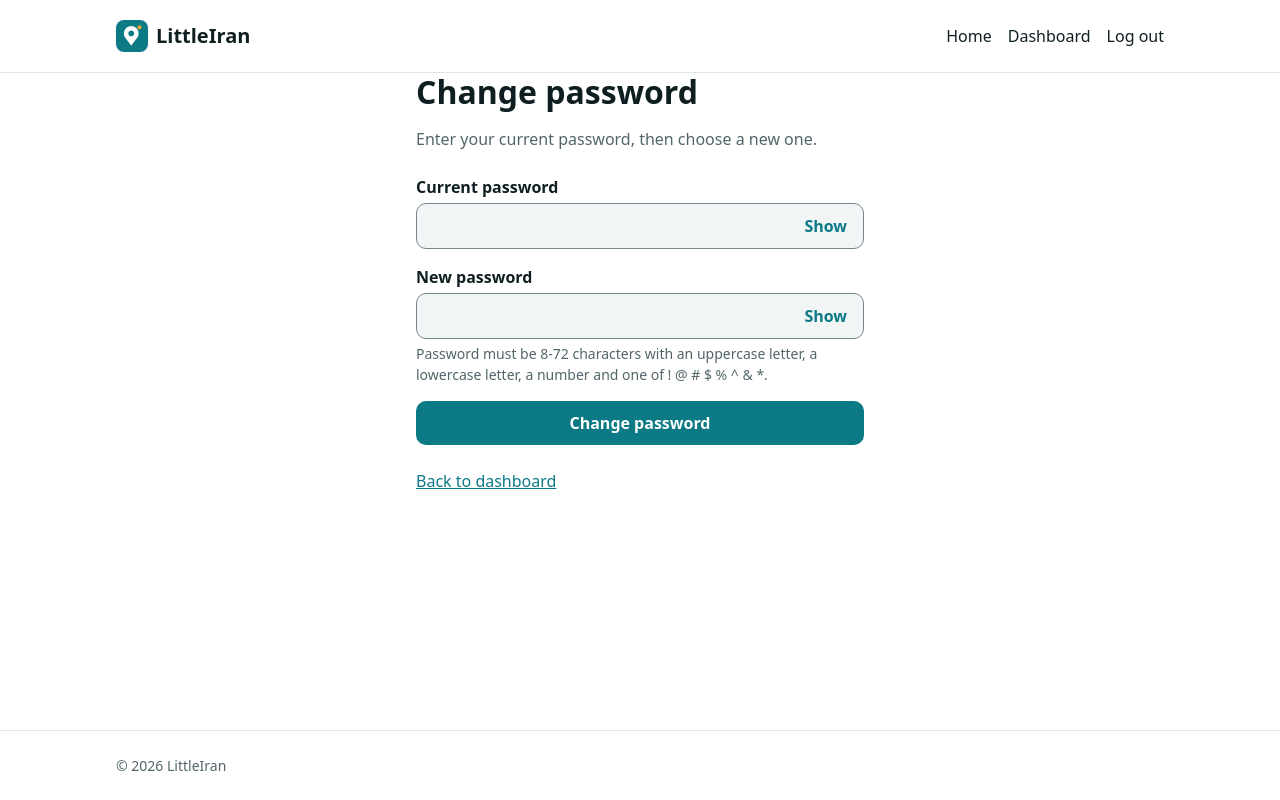
Test: Change password page › explains an unreachable server and keeps what was typed
Expected: the heading "Change password" is shown, [416,70,698,113]
Type "Test123@" into the password field labelled "Current password" at (603, 226), box [417,204,788,248]
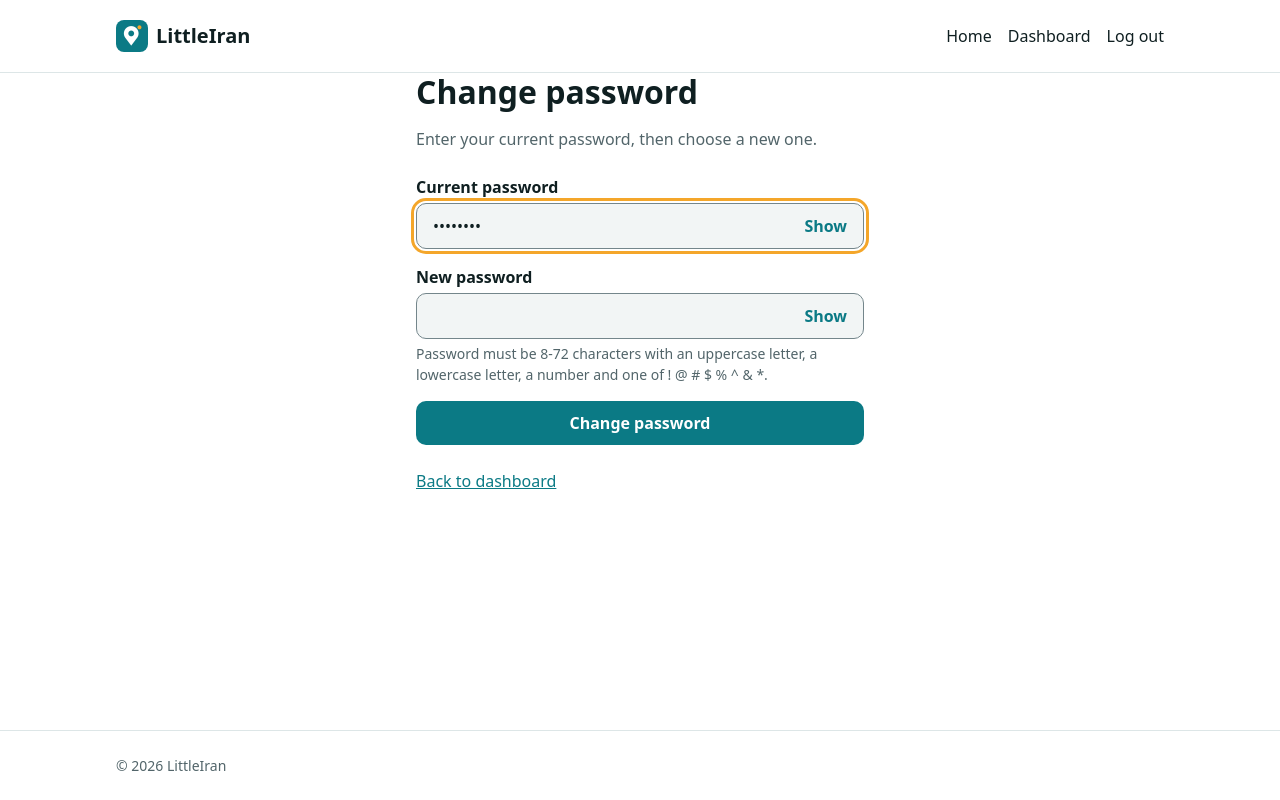
Type "NewPass1!" into the password field labelled "New password" at (603, 316), box [417,294,788,338]
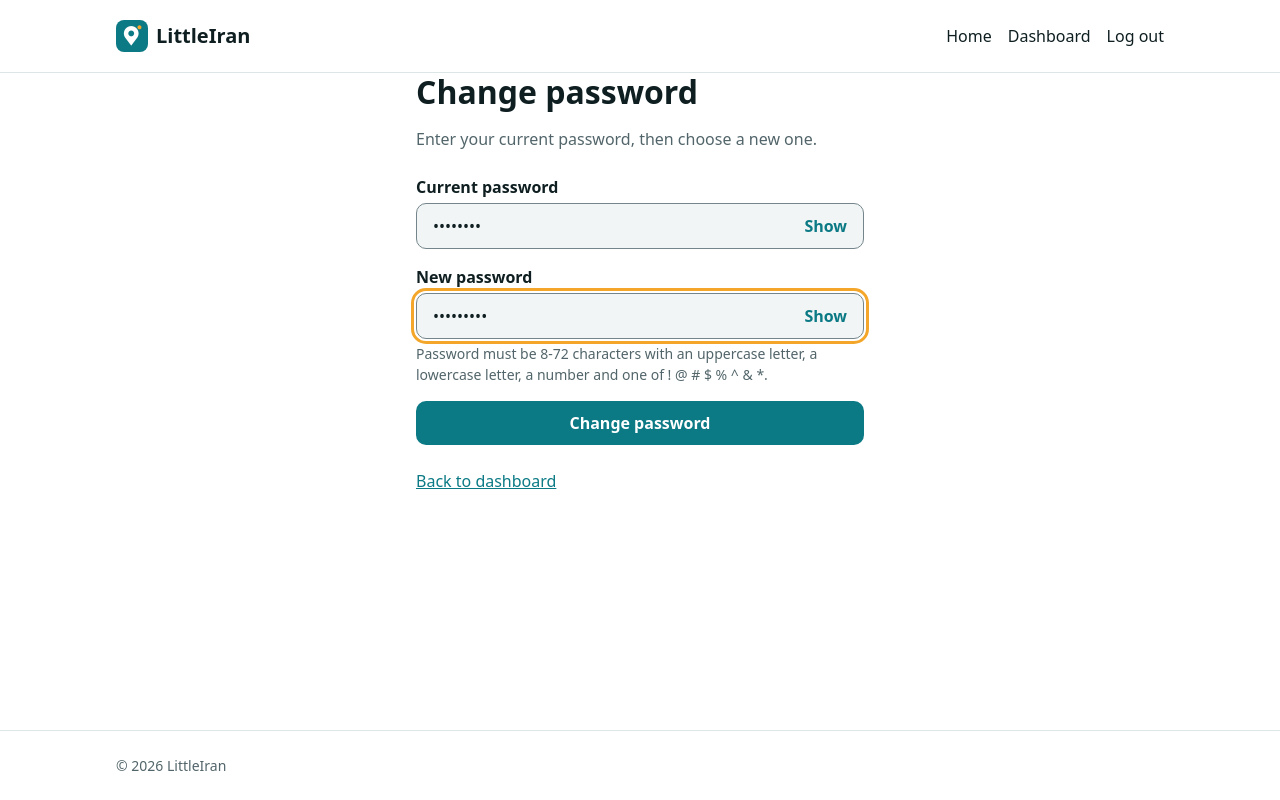
Click the button "Change password" at (640, 423), box [416,401,864,445]
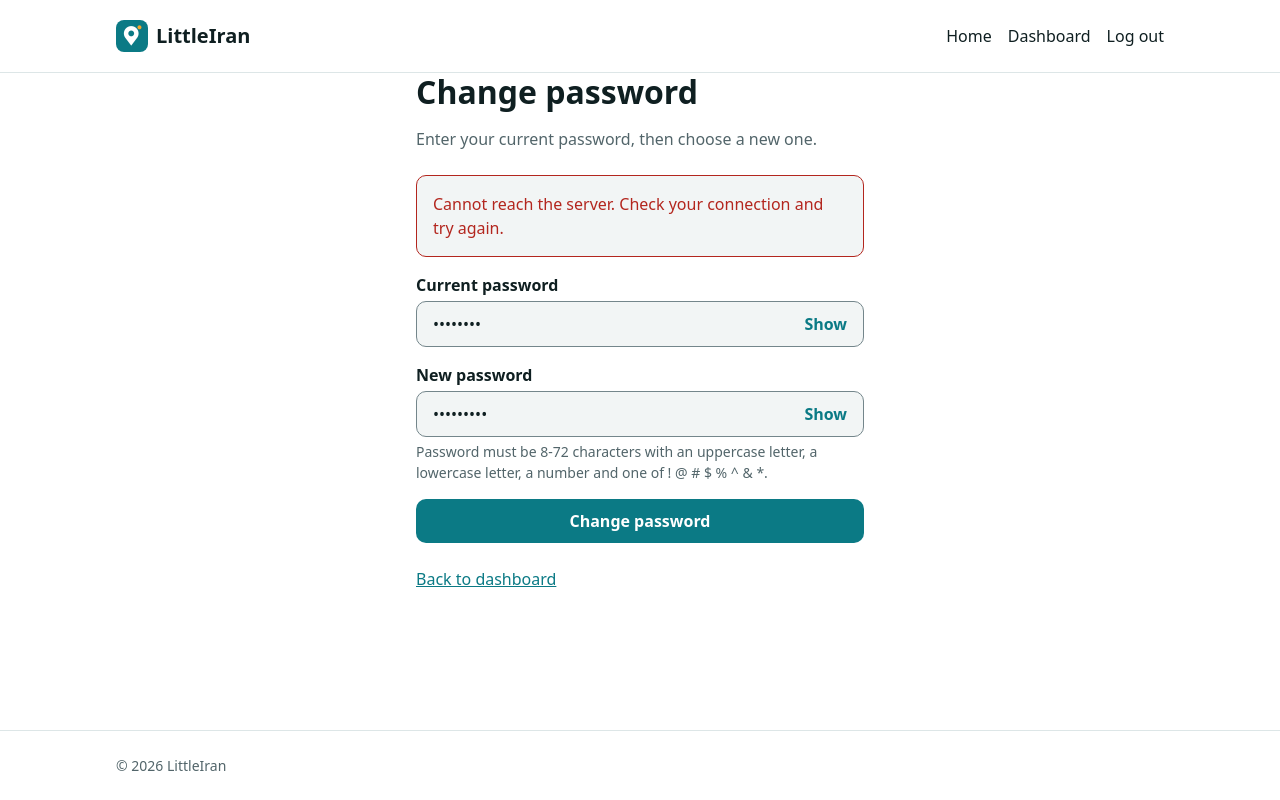
Now the message shows "Cannot reach the server", box [433,193,823,239]
